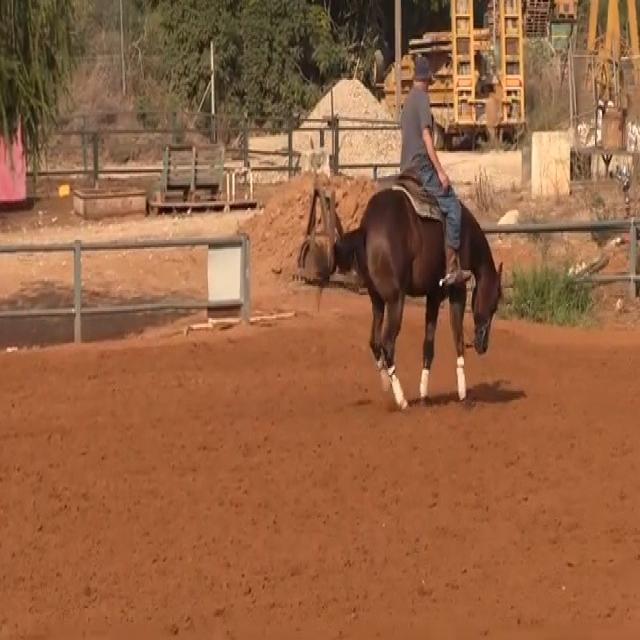horse: (299, 176, 505, 411)
